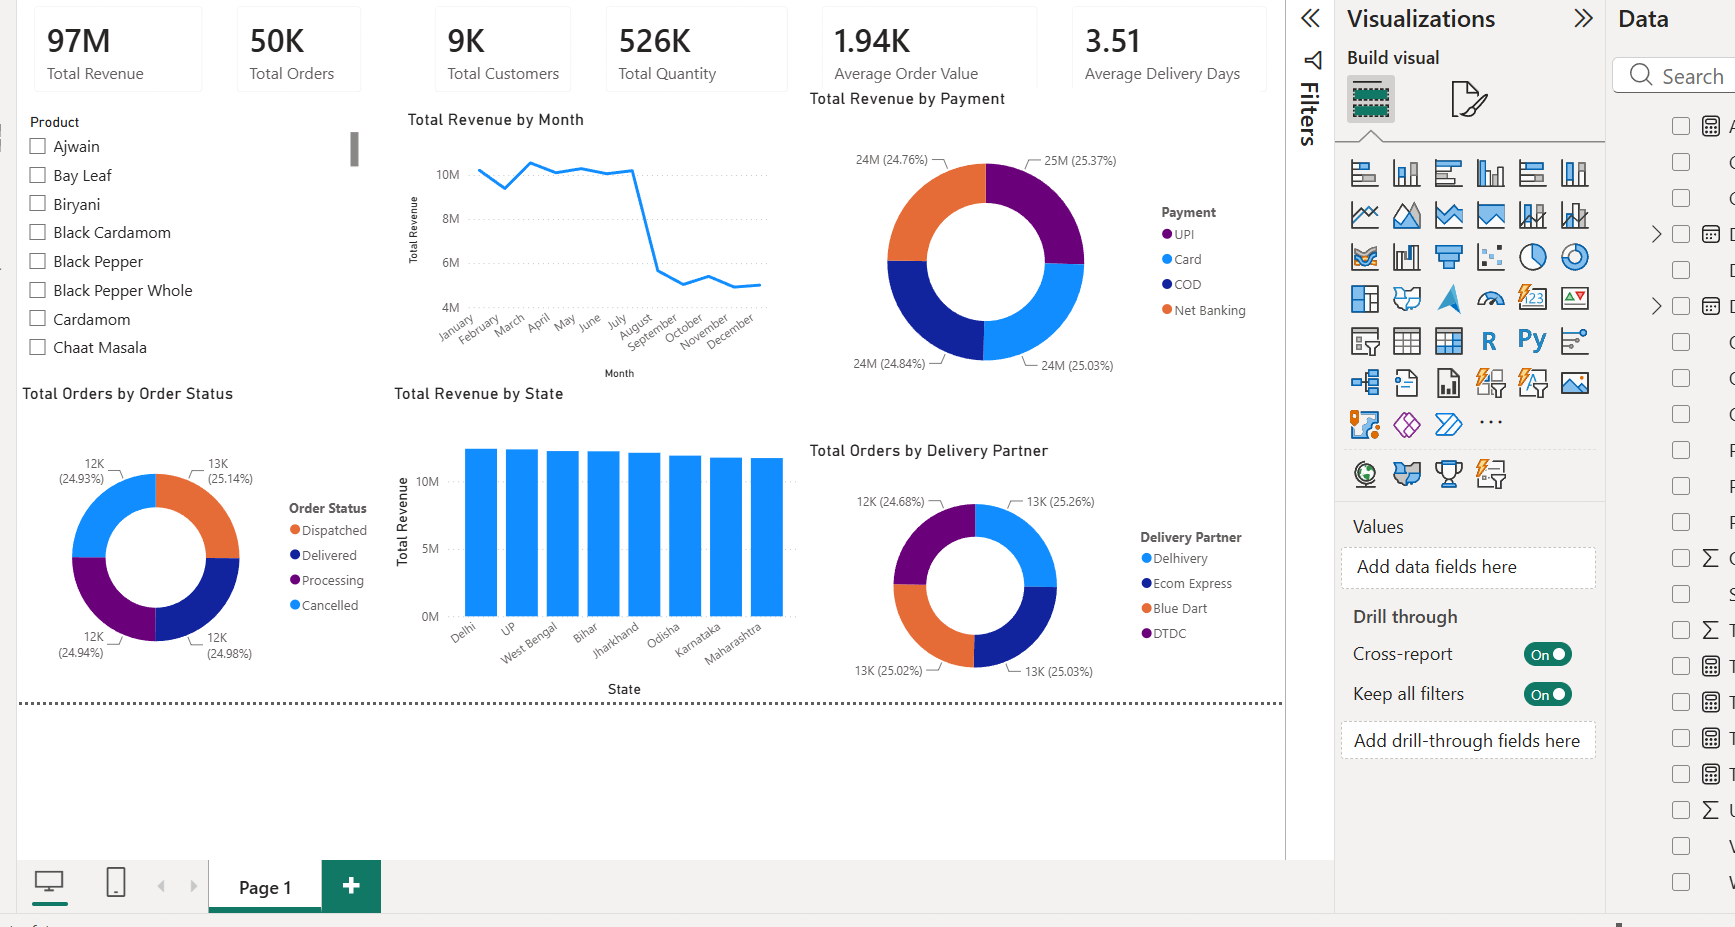

Layout of this report page (visuals, bound fields, positions):
{"tool":"powerbi","page":{"name":"Page 1","canvas":[1280,720],"ordinal":0},"visuals":[{"type":"cardVisual","fields":{"Data":["Orders.Average Delivery Days"]},"box":[1047.8,0,231.7,121.1],"z":0},{"type":"cardVisual","fields":{"Data":["Orders.Average Order Value"]},"box":[795,0,252.9,121.1],"z":1000},{"type":"cardVisual","fields":{"Data":["Orders.Total Customers"]},"box":[404.3,0,172.6,121.1],"z":2000},{"type":"cardVisual","fields":{"Data":["Orders.Total Orders"]},"box":[204.4,0,160.5,121.1],"z":3000},{"type":"cardVisual","fields":{"Data":["Orders.Total Quantity"]},"box":[576.9,0,218,121.1],"z":4000},{"type":"cardVisual","fields":{"Data":["Orders.Total Revenue"]},"box":[0,0,204.4,121.1],"z":5000},{"type":"lineChart","fields":{"Category":["Calendar.Month"],"Y":["Orders.Total Revenue"]},"box":[389.2,121.1,375.5,277.1],"z":6000},{"type":"slicer","fields":{"Values":["Orders.Product"]},"box":[0,121.1,349.8,265],"z":7000},{"type":"donutChart","fields":{"Category":["Orders.Order Status"],"Y":["Orders.Total Orders"]},"box":[0,398.2,375.5,321],"z":8000},{"type":"clusteredColumnChart","fields":{"Category":["Orders.State"],"Y":["Orders.Total Revenue"]},"box":[375.5,398.2,419.4,321],"z":9000},{"type":"donutChart","fields":{"Category":["Orders.Payment"],"Y":["Orders.Total Revenue"]},"box":[795,99.9,460.3,321],"z":10000},{"type":"donutChart","fields":{"Category":["Orders.Delivery Partner"],"Y":["Orders.Total Orders"]},"box":[795,456,460,263],"z":11000}]}

Visuals, with their boxes on the page's 1280x720 design canvas (x1, y1, x2, y2). These are canvas units, not pixel positions in the 1735x927 screenshot, which may show the page scaled, cropped or inside an application window:
cardVisual - Orders.Average Delivery Days: left=1048, top=0, right=1280, bottom=121
cardVisual - Orders.Average Order Value: left=795, top=0, right=1048, bottom=121
cardVisual - Orders.Total Customers: left=404, top=0, right=577, bottom=121
cardVisual - Orders.Total Orders: left=204, top=0, right=365, bottom=121
cardVisual - Orders.Total Quantity: left=577, top=0, right=795, bottom=121
cardVisual - Orders.Total Revenue: left=0, top=0, right=204, bottom=121
lineChart - Calendar.Month x Orders.Total Revenue: left=389, top=121, right=765, bottom=398
slicer - Orders.Product: left=0, top=121, right=350, bottom=386
donutChart - Orders.Order Status x Orders.Total Orders: left=0, top=398, right=376, bottom=719
clusteredColumnChart - Orders.State x Orders.Total Revenue: left=376, top=398, right=795, bottom=719
donutChart - Orders.Payment x Orders.Total Revenue: left=795, top=100, right=1255, bottom=421
donutChart - Orders.Delivery Partner x Orders.Total Orders: left=795, top=456, right=1255, bottom=719
